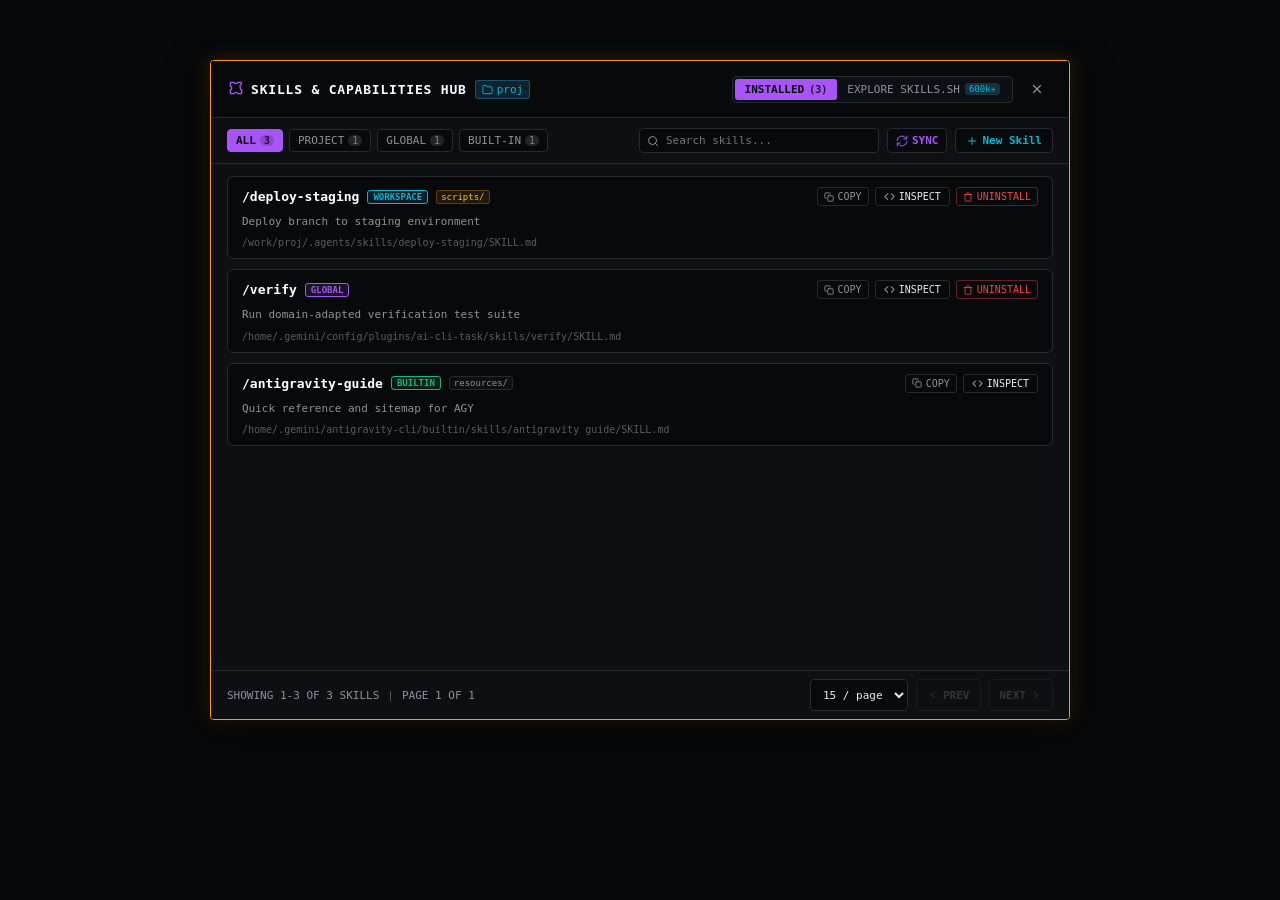
Test: SkillsManagementModal › scaffolds a new skill and adds it to list
The image size is (1280, 900).
Expected: the text "/deploy-staging" is shown, left=242, top=189, right=359, bottom=204
// Click "New Skill"
Click the button "New Skill" at (1004, 140), box left=955, top=128, right=1053, bottom=153
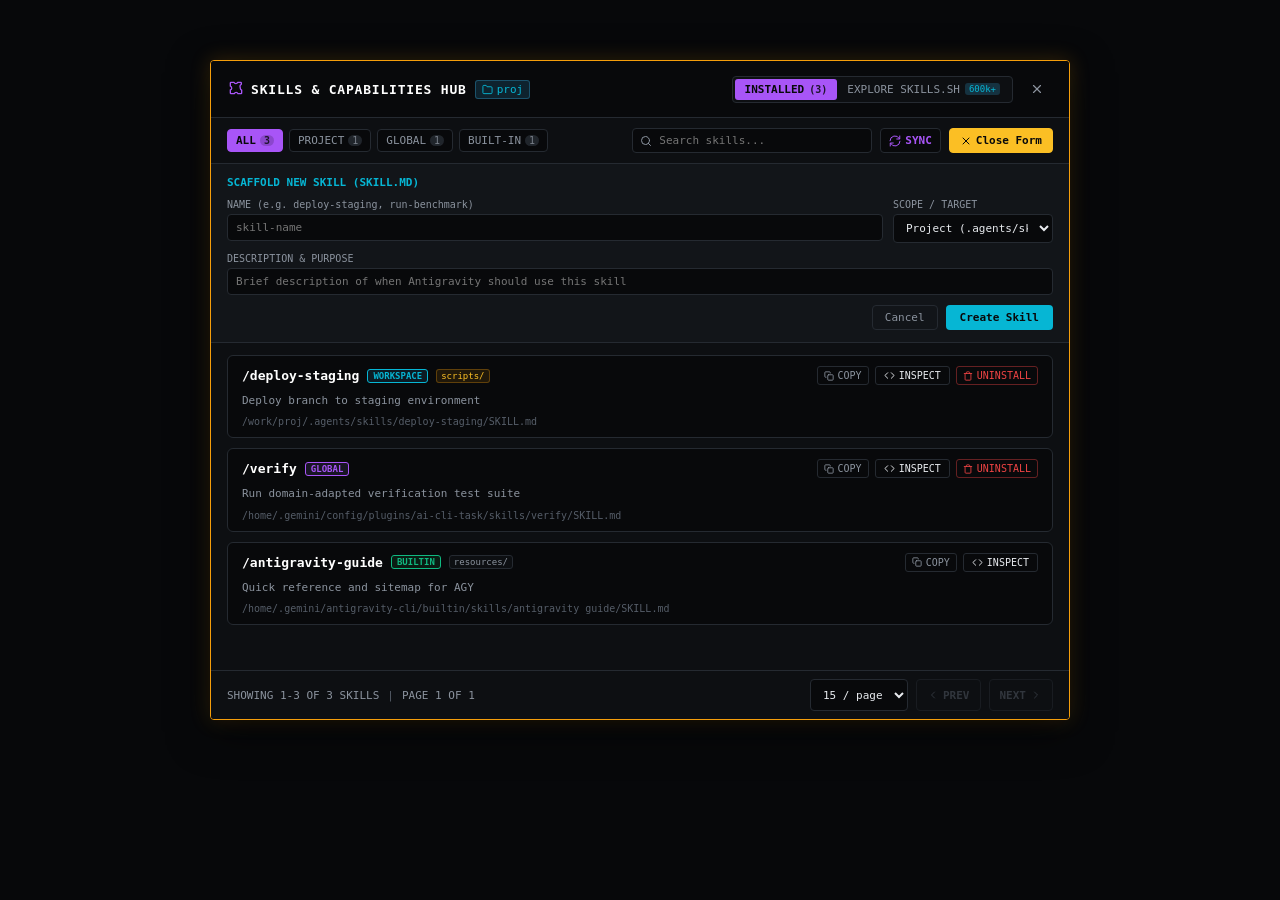
// Form inputs
Type "security-scan" into the field with placeholder "skill-name" at (555, 228), box left=227, top=214, right=883, bottom=241
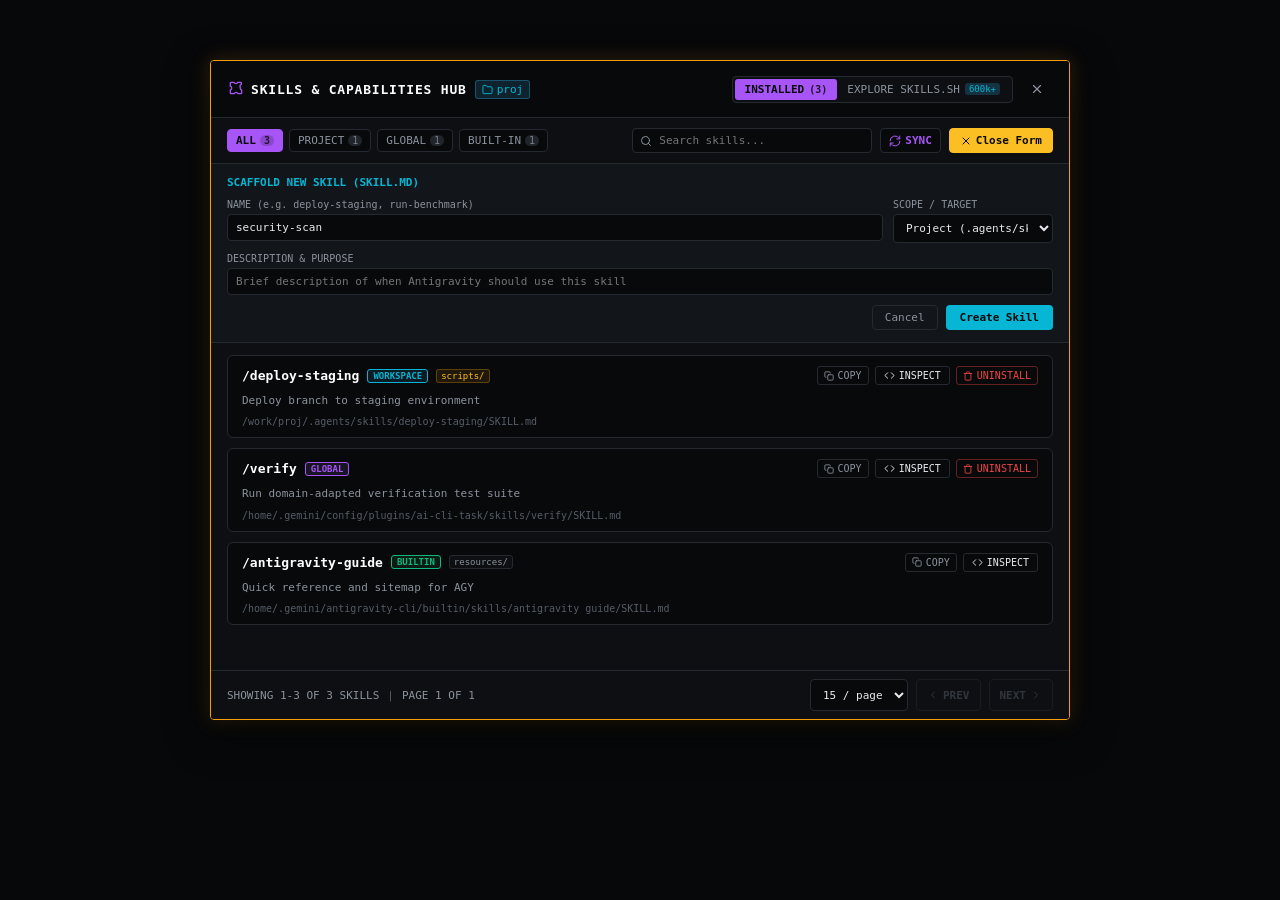
Type "Run static security audit" into the field with placeholder "Brief description of when Antigravity should use this skill" at (640, 282), box left=227, top=268, right=1053, bottom=295
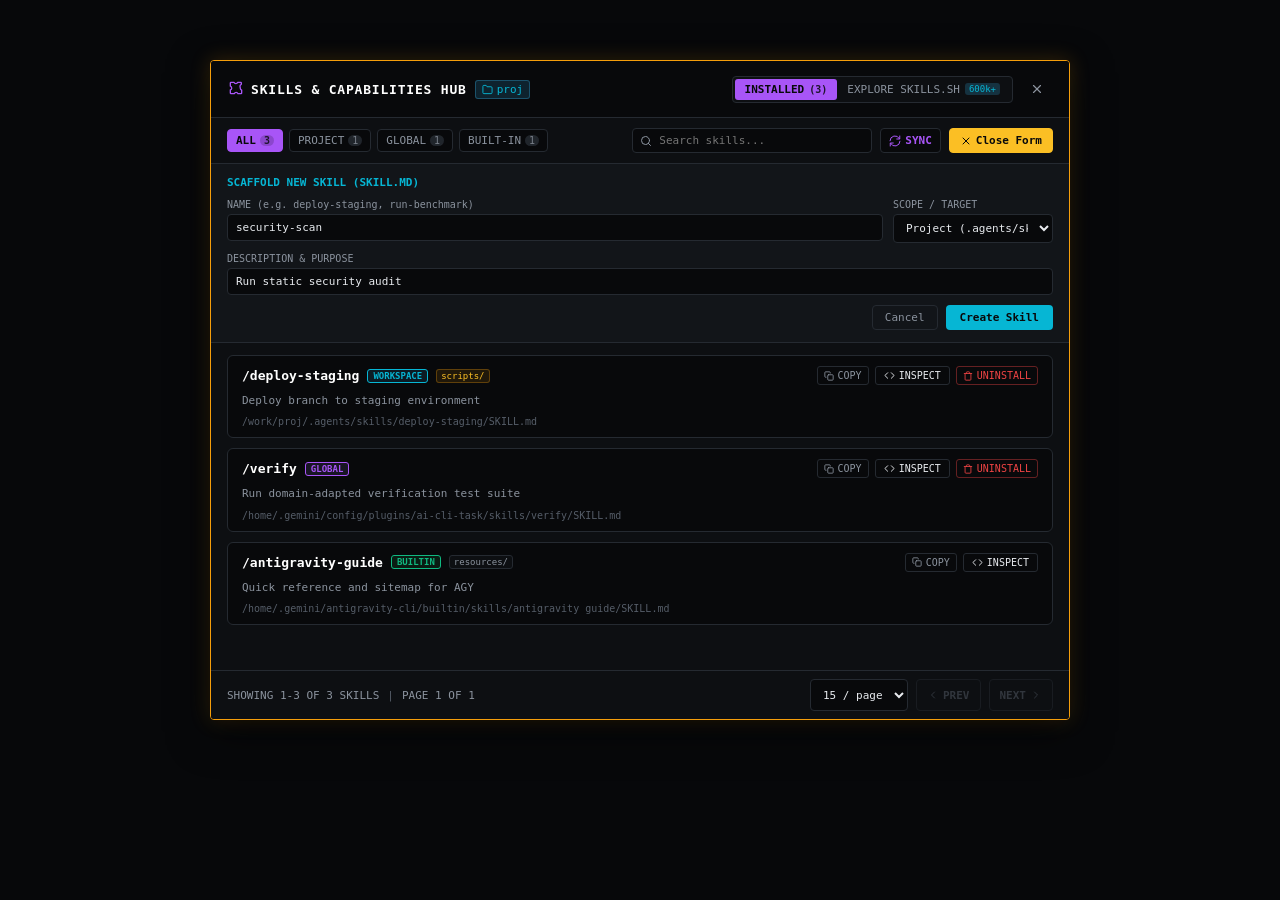
// Submit form
Click the button "Create Skill" at (999, 318), box left=946, top=305, right=1053, bottom=330
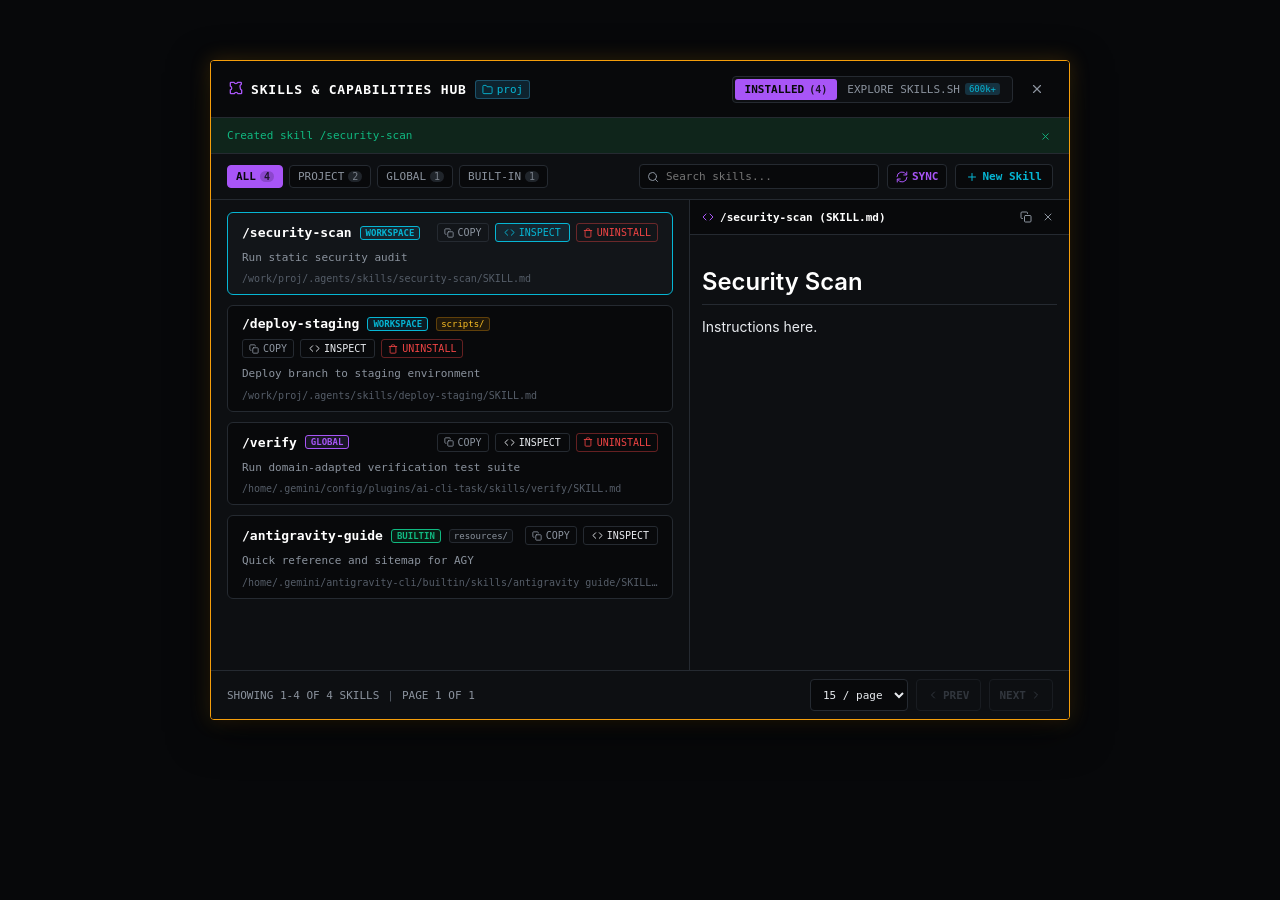
Expected: the text "/security-scan" is shown, left=242, top=225, right=352, bottom=240
